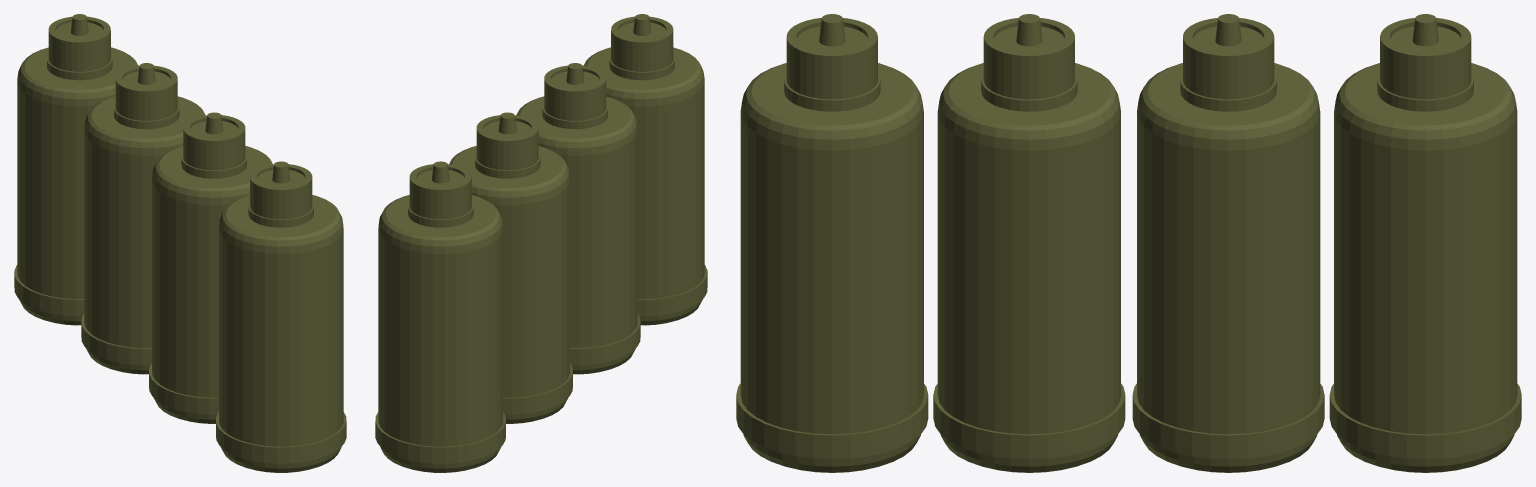
File: Object_robotBase_gasCylinder.fbx
3 renders of one model, left to right at view 1: azimuth 30°, elevation 25°; view 2: azimuth 150°, elevation 25°; view 3: azimuth 270°, elevation 25°, orthographic. The views are drawn at different scales.
Parts seen in each view (by area): view 1: Cylinder; view 2: Cylinder; view 3: Cylinder.
Boxes of the visible parts, box(x1,y1,x2,y2) form: Cylinder: box(14, 14, 346, 472); Cylinder: box(375, 14, 707, 472); Cylinder: box(736, 14, 1521, 472).
Bounding box in the file's own units: 0.75 × 1.8 × 3.05.
